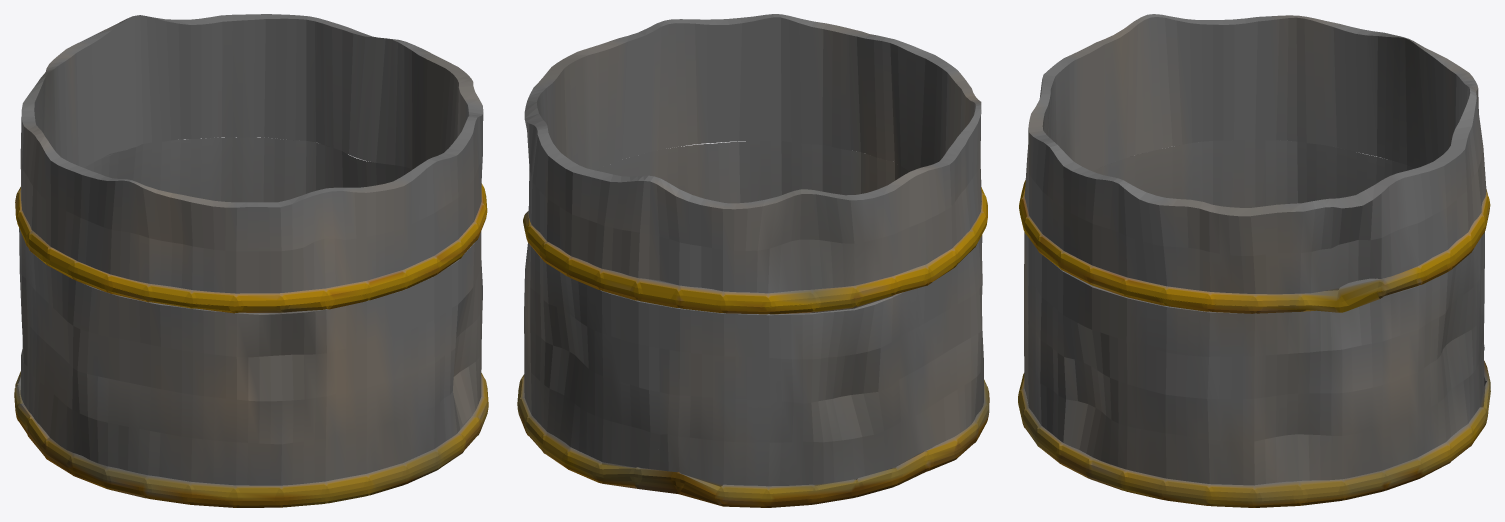
Rendered from barrel_no_dirt.glb.
The picture shows the model from 3 angles, left to right: view 1: azimuth 30°, elevation 25°; view 2: azimuth 150°, elevation 25°; view 3: azimuth 270°, elevation 25°; orthographic projection.
Parts seen in each view (by area): view 1: ripped barrel no dirt; view 2: ripped barrel no dirt; view 3: ripped barrel no dirt.
Part boxes in pixels (bbox=[...]): ripped barrel no dirt: bbox=[14, 14, 488, 507]; ripped barrel no dirt: bbox=[517, 14, 989, 507]; ripped barrel no dirt: bbox=[1018, 14, 1490, 507].
Size of the model in its own units: 2.06 by 1.52 by 2.06.
